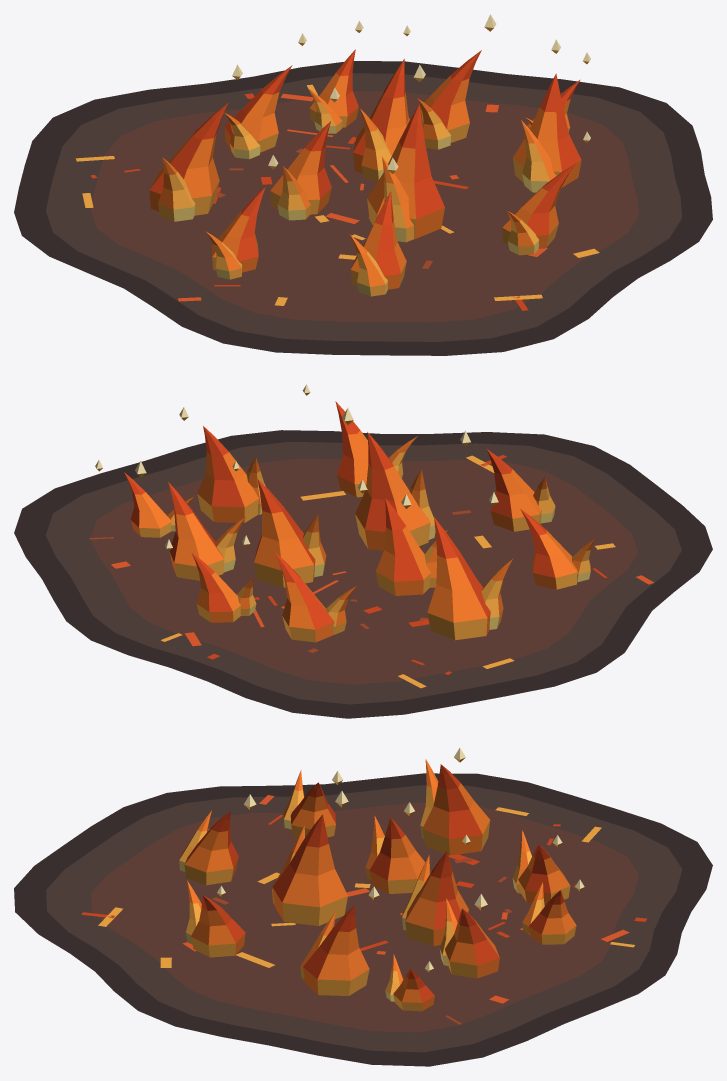
File: GroundFire.fbx
3 views of the same model, one above another, from view 1: azimuth 30°, elevation 25°; view 2: azimuth 150°, elevation 25°; view 3: azimuth 270°, elevation 25° (orthographic). The views are drawn at different scales.
Parts seen in each view (by area): view 1: Fire_Scorch, Fire_Flames, Fire_Coals, Fire_Sparks; view 2: Fire_Scorch, Fire_Flames, Fire_Coals, Fire_Sparks; view 3: Fire_Scorch, Fire_Flames, Fire_Coals, Fire_Sparks.
Part boxes in pixels (x1,y1,x2,y2): Fire_Scorch: (14,61,712,355); Fire_Flames: (149,49,581,296); Fire_Coals: (75,84,599,310); Fire_Sparks: (232,14,590,173); Fire_Scorch: (14,430,712,718); Fire_Flames: (124,401,595,642); Fire_Coals: (89,455,654,688); Fire_Sparks: (95,384,498,550); Fire_Scorch: (14,773,712,1066); Fire_Flames: (179,759,576,1011); Fire_Coals: (81,795,646,1024); Fire_Sparks: (217,748,584,972).
Size of the model in its own units: 618 by 136 by 622.
2 materials, 2 textured.
